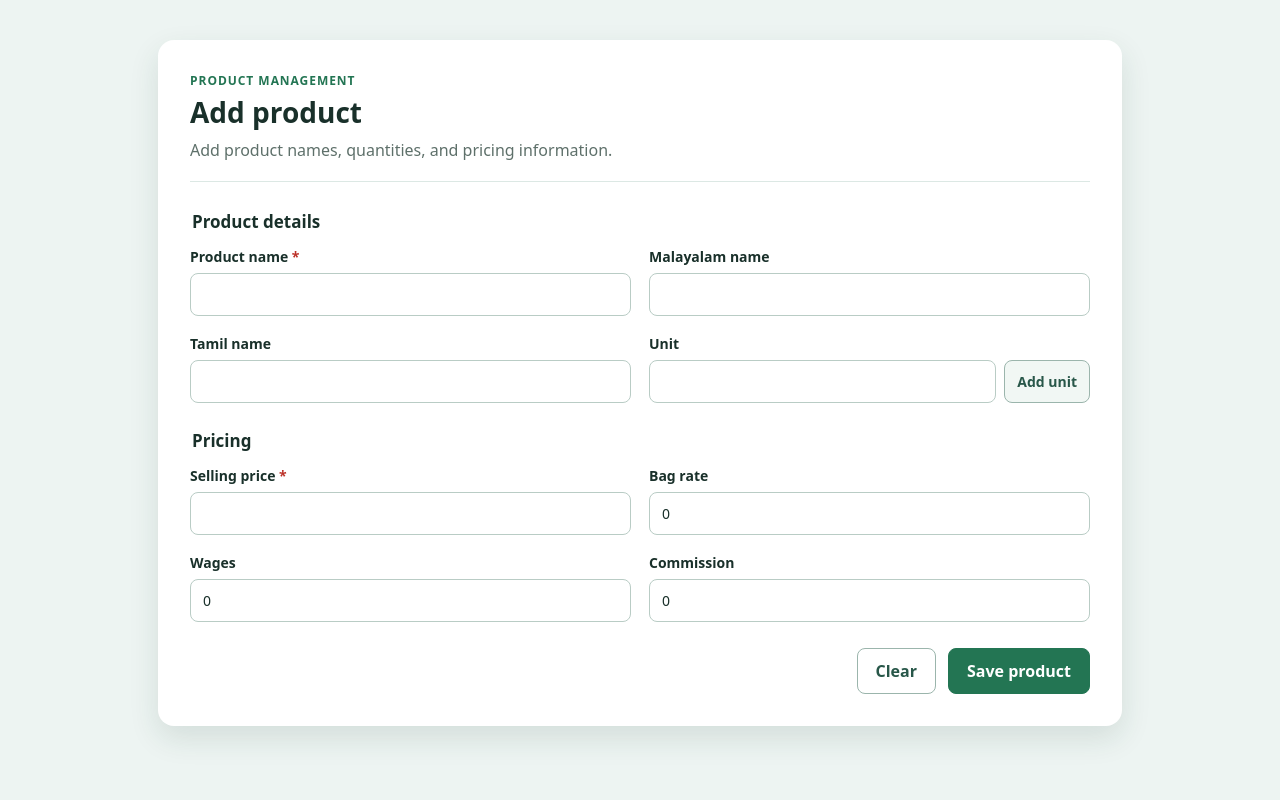
Test: deleting a unit removes the suggestion while preserving the product draft
Type "Rice" into the field labelled "Product name *".
click(410, 294); type("Rice")  # box [190,273,631,316]
Type "12.50" into the number field labelled "Selling price *".
click(410, 514); type("12.50")  # box [190,492,631,535]
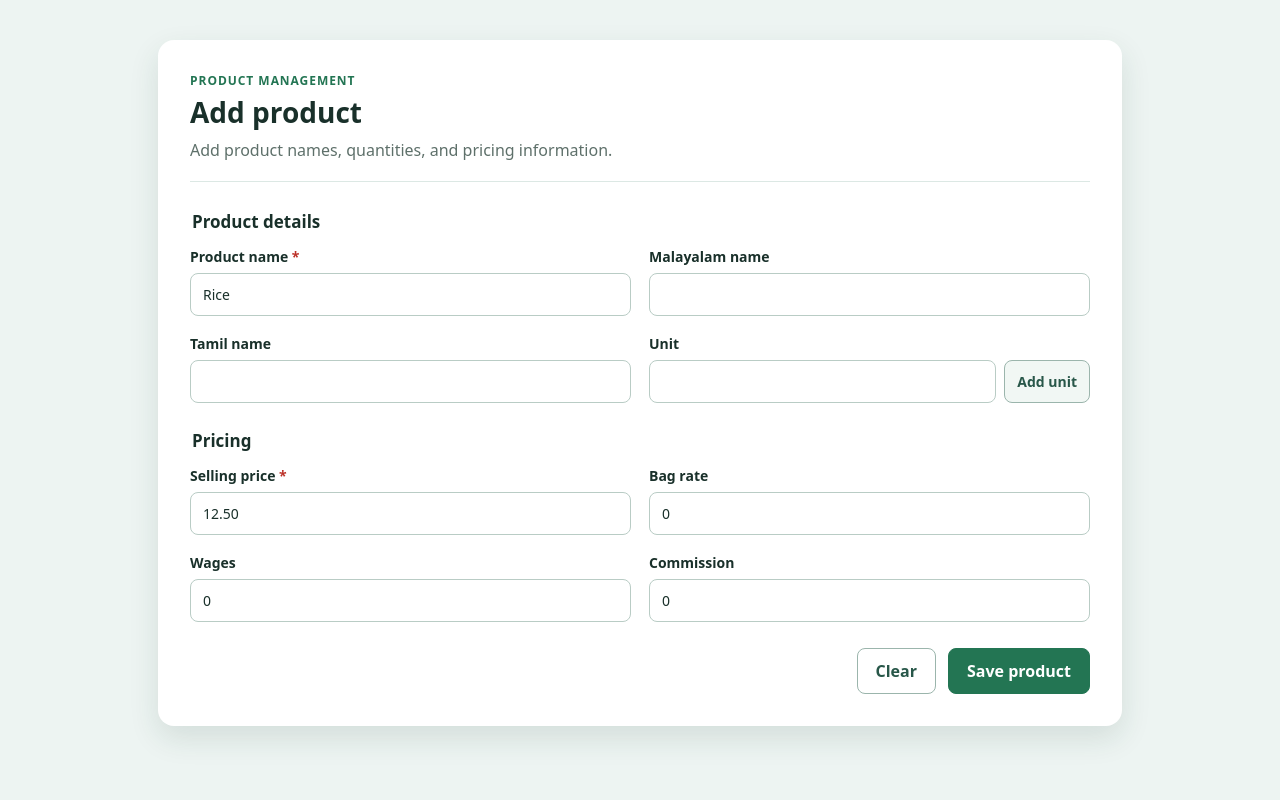
Type "Kg" into the field labelled "Unit".
click(823, 382); type("Kg")  # box [649,360,996,403]
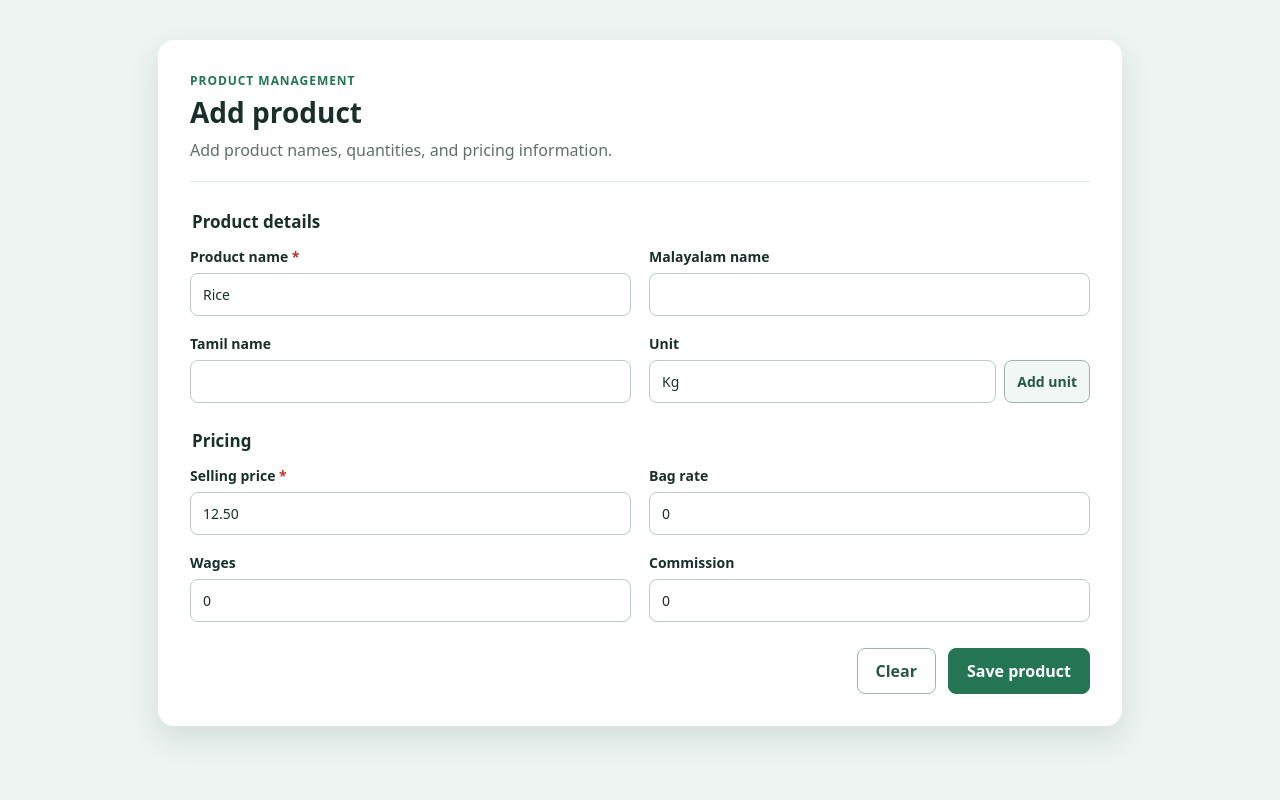
Click the button "Add unit".
click(1047, 382)  # box [1004,360,1090,403]
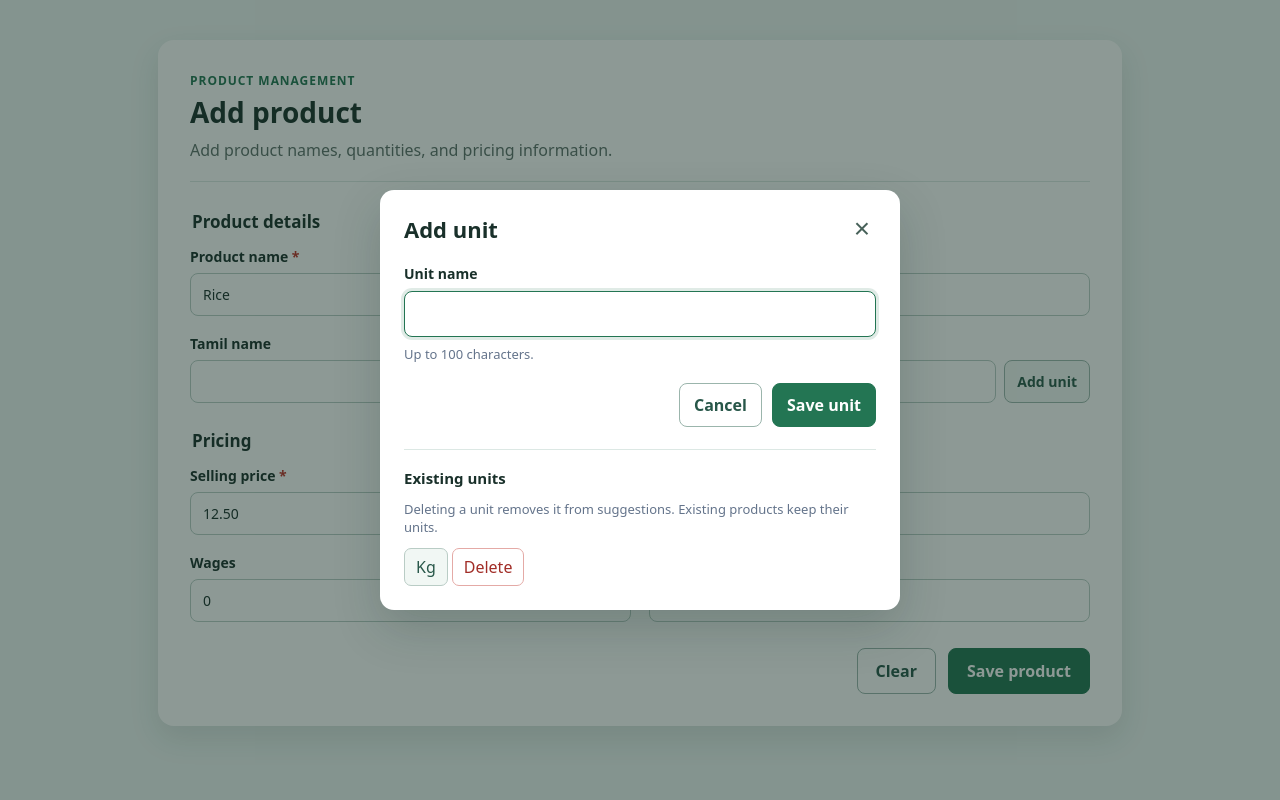
Click the button with aria-label "Delete unit Kg".
click(488, 567)  # box [452,548,524,586]
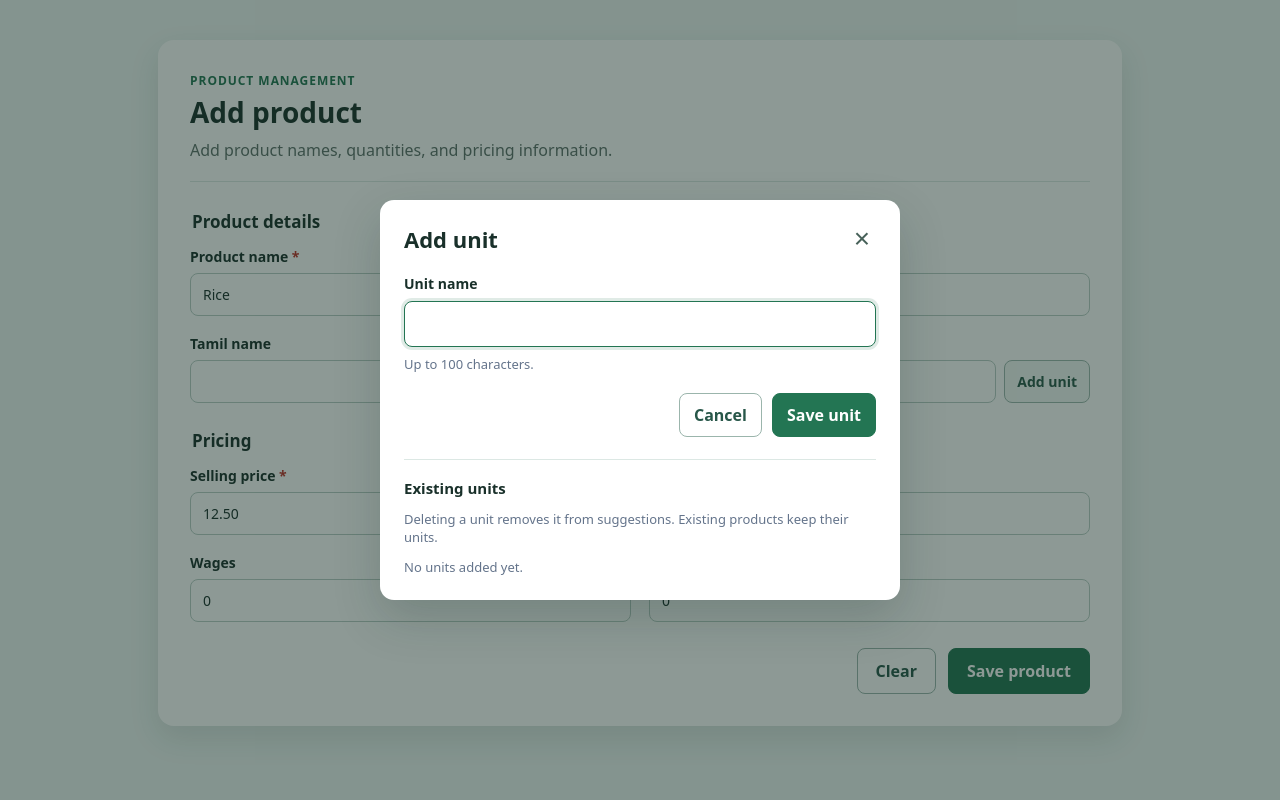
Click the button "Cancel".
click(720, 415)  # box [679,393,762,437]
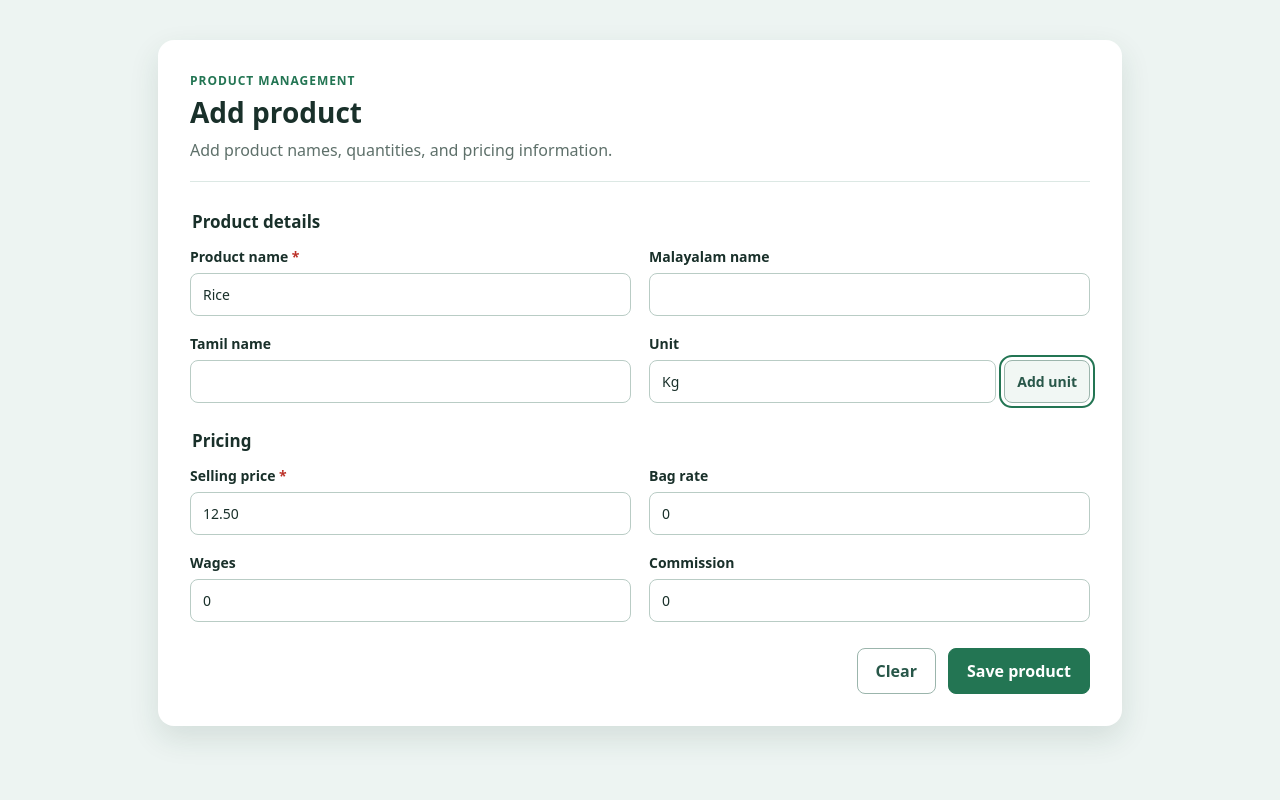
Click the button "Save product".
click(1019, 671)  # box [948,648,1090,694]
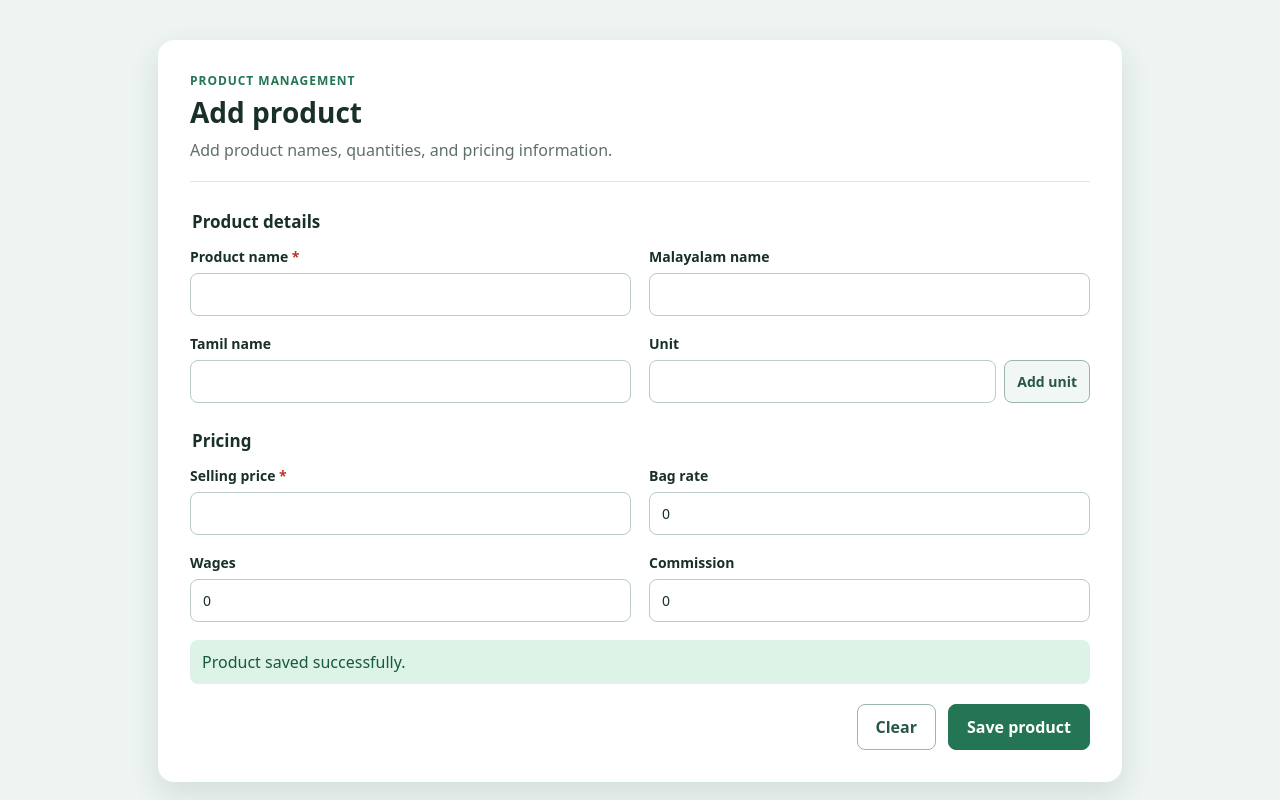
Result: the text "Product saved successfully." is shown at [190,640,1090,684]
